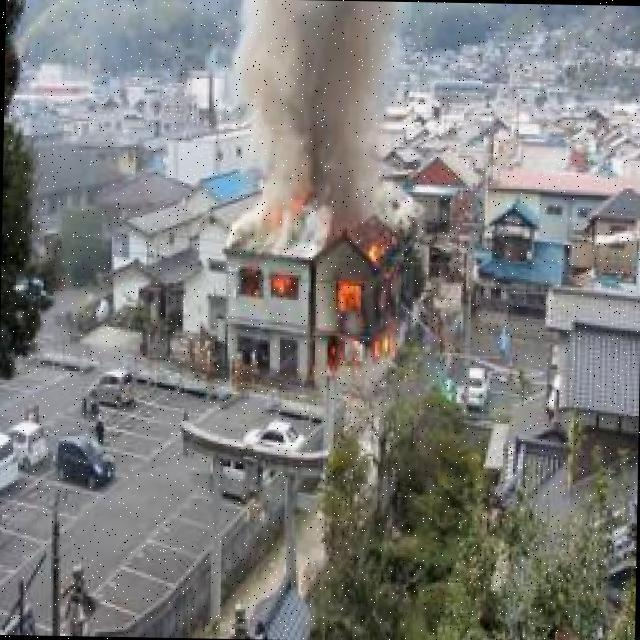Fire: (329, 242, 406, 374), (265, 269, 305, 294)
